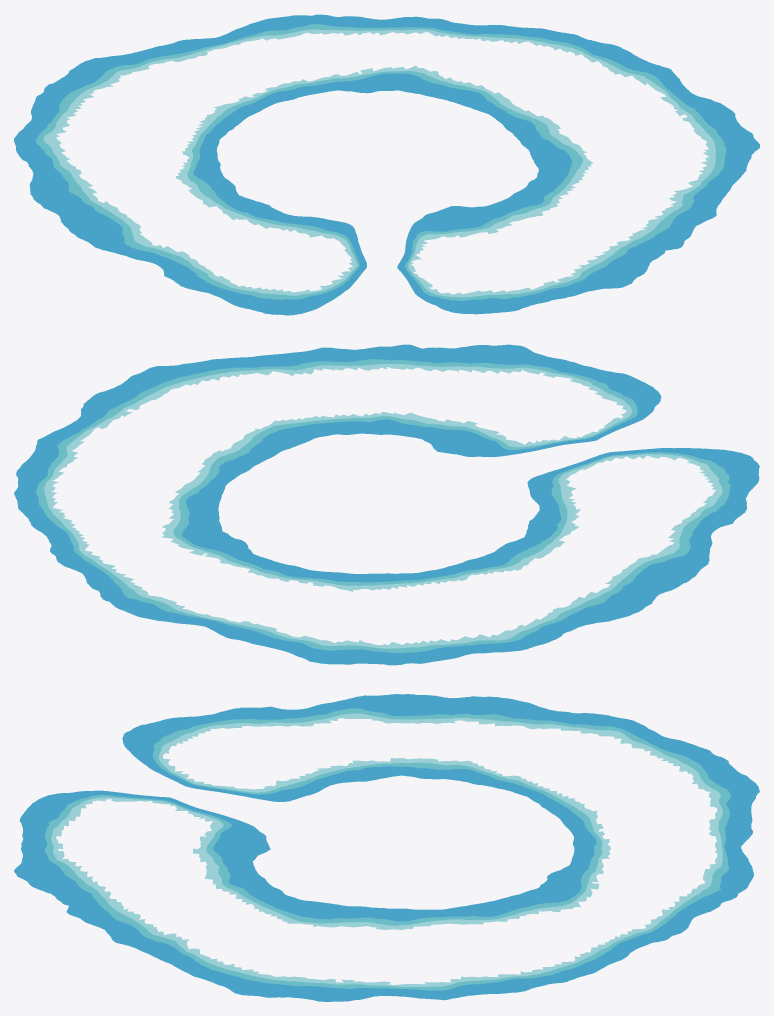
The model's file is Isl-atoll6-Water.fbx.
3 renders of one model, top to bottom at view 1: azimuth 30°, elevation 25°; view 2: azimuth 150°, elevation 25°; view 3: azimuth 270°, elevation 25°, orthographic. The views are drawn at different scales.
Visible parts, largest first — view 1: Isl-atoll6-Water; view 2: Isl-atoll6-Water; view 3: Isl-atoll6-Water.
Part boxes in pixels (x1,y1,x2,y2): Isl-atoll6-Water: (14,14,759,315); Isl-atoll6-Water: (14,344,759,665); Isl-atoll6-Water: (14,694,759,1001).
Bounding box in the file's own units: 123 × 0 × 126.
